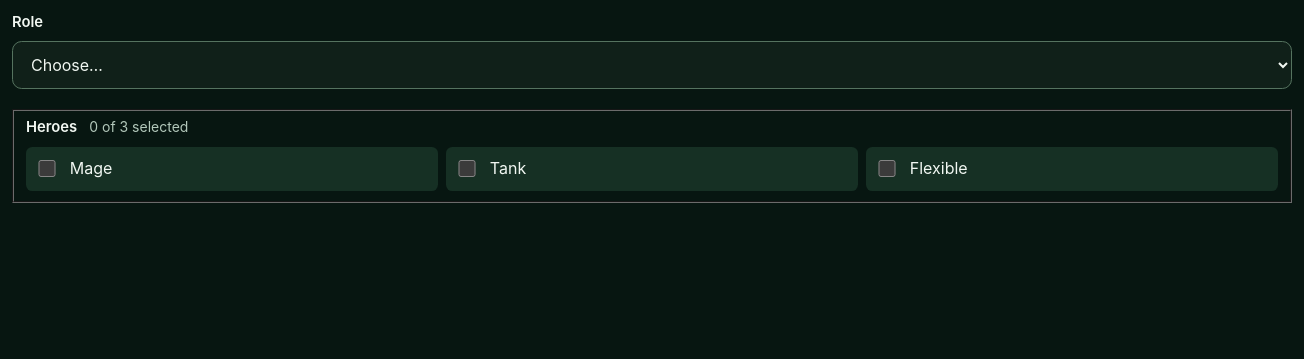
Test case: allows hero-first choices across roles, auto-matches a shared role and restores it after clearing
Click the checkbox labelled "Mage": {"x": 47, "y": 168} [38,160,56,177]
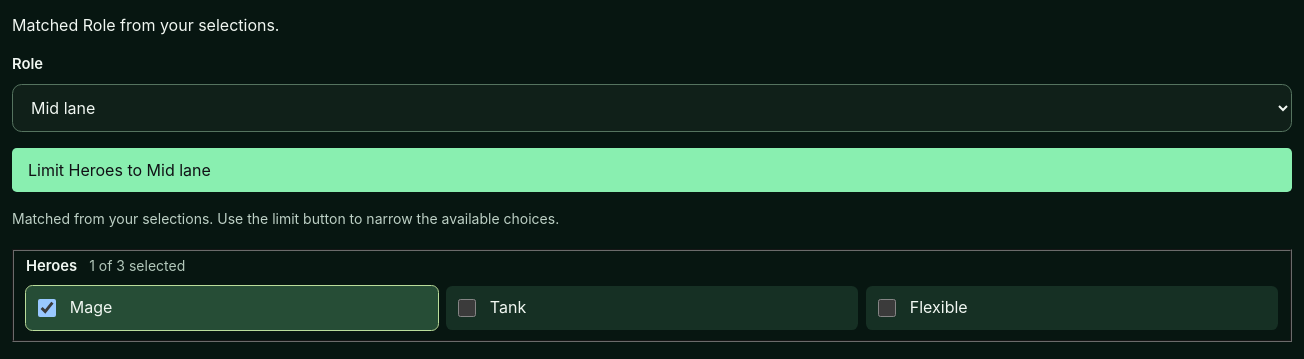
Now the dropdown labelled "Role" shows "Mid lane", box [12,84,1292,132]
Click the checkbox labelled "Tank": {"x": 467, "y": 308} [458,299,476,317]
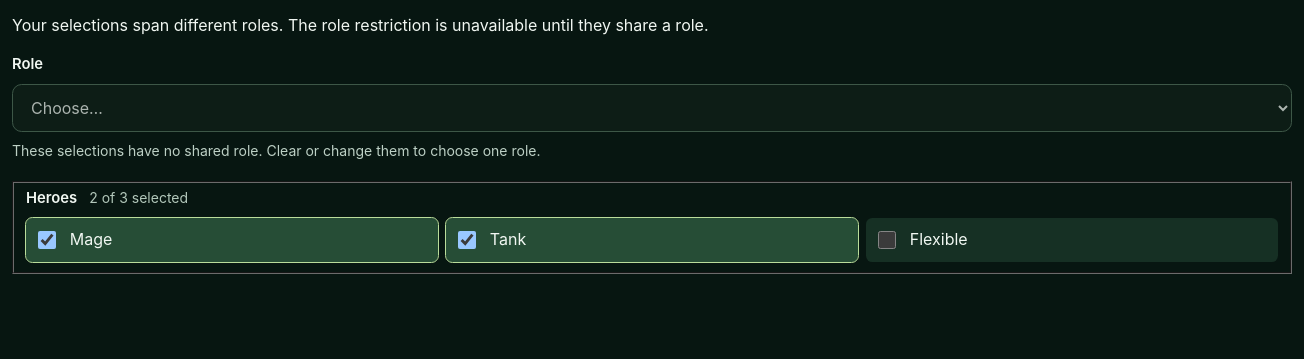
Now the dropdown labelled "Role" is disabled, box [12,84,1292,132]
Now the dropdown labelled "Role" shows "Choose…", box [12,84,1292,132]
Click the checkbox labelled "Tank": {"x": 467, "y": 240} [458,231,476,249]
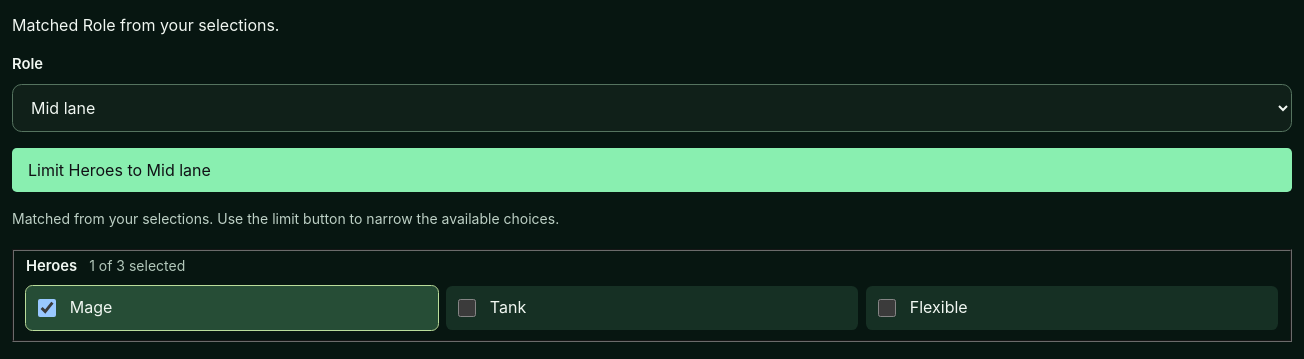
Now the dropdown labelled "Role" is enabled, box [12,84,1292,132]
Now the dropdown labelled "Role" shows "Mid lane", box [12,84,1292,132]
Click the checkbox labelled "Mage": {"x": 47, "y": 308} [38,299,56,317]
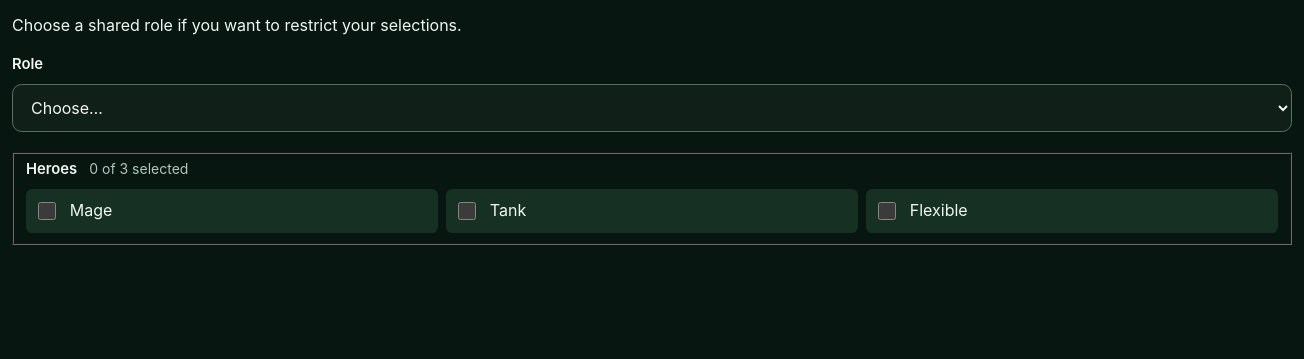
Now the dropdown labelled "Role" shows "Choose…", box [12,84,1292,132]
